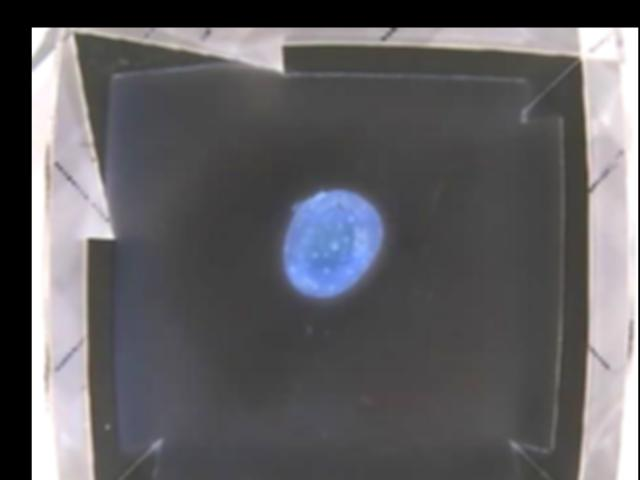Potato: (282, 189, 387, 296)
